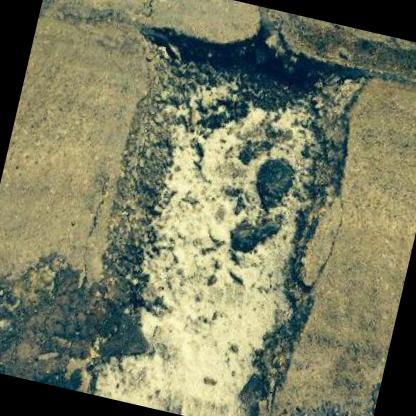pothole: (49, 0, 380, 416)
